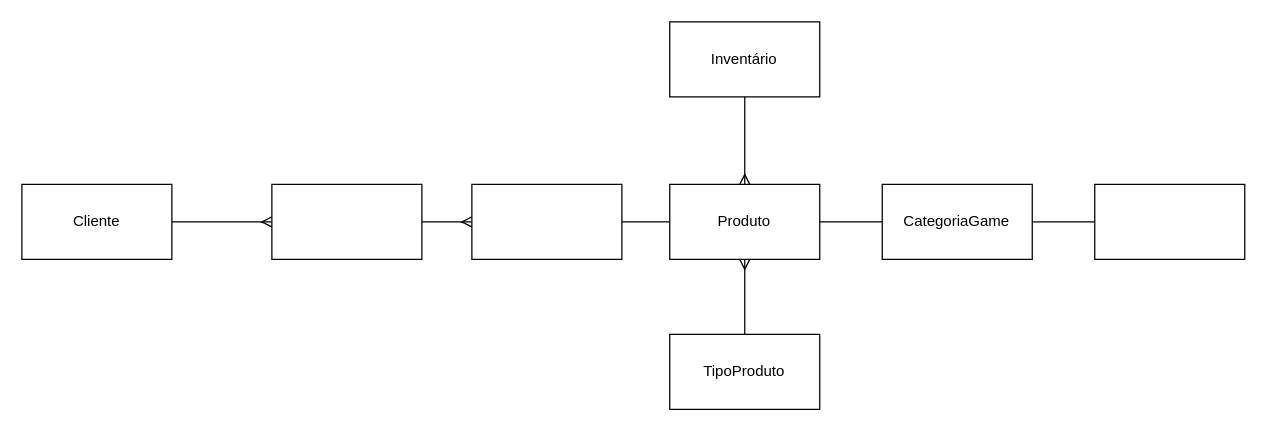
Image size: 1268x431. Some labels were removed from this diagram. The centre of each missing label's shape, as x and y in pixels:
"Categoria" belongs at point (1169, 221).
"Compra" belongs at point (346, 221).
"CompraItem" belongs at point (546, 221).
